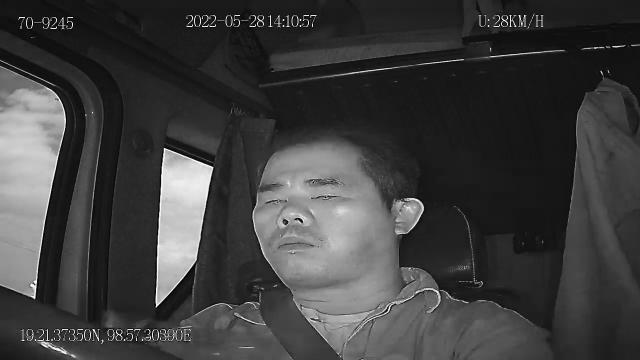SafeDriving: (301, 175, 351, 206), (255, 186, 291, 212)
Seatbelt: (244, 256, 344, 360)
